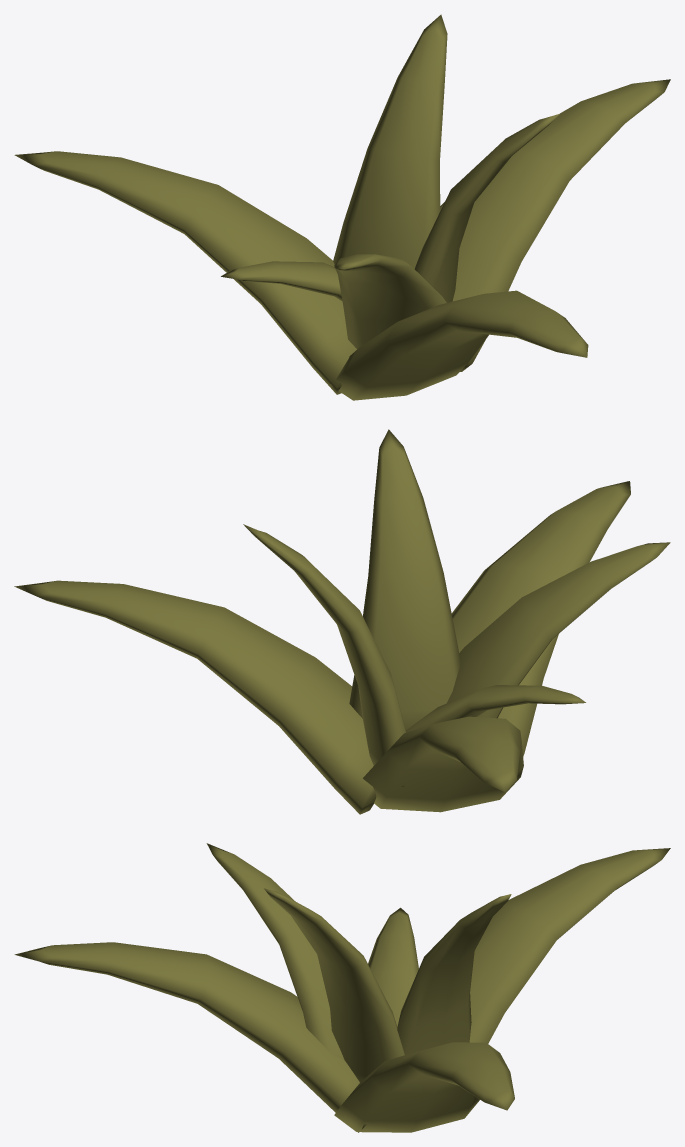
File: Grass.fbx
3 renders of one model, top to bottom at view 1: azimuth 30°, elevation 25°; view 2: azimuth 150°, elevation 25°; view 3: azimuth 270°, elevation 25°, orthographic. The views are drawn at different scales.
Visible parts, largest first — view 1: Grass; view 2: Grass; view 3: Grass.
Part boxes in pixels (x1,y1,x2,y2): Grass: (14,14,670,400); Grass: (14,429,670,814); Grass: (14,843,670,1132).
Bounding box in the file's own units: 698 × 342 × 739.
